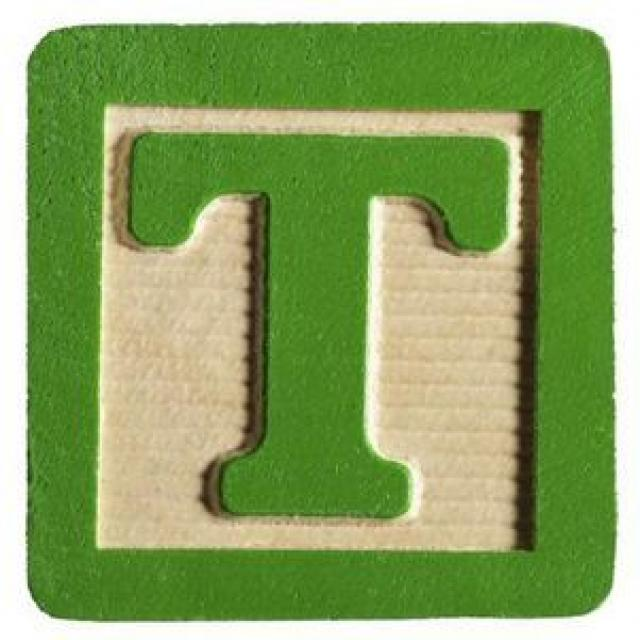T: (120, 113, 529, 542)
